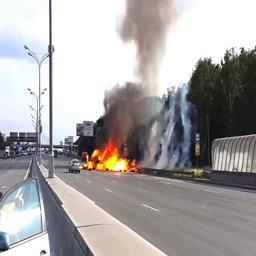fire: (85, 140, 137, 172)
